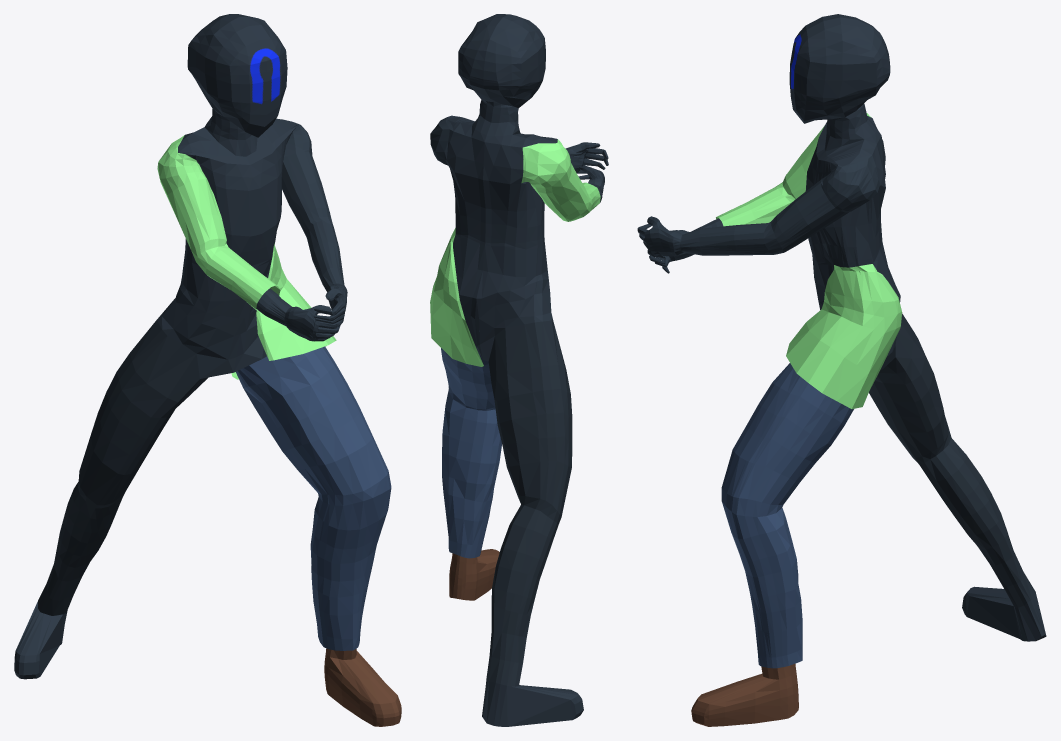
Rendered from Mar_WR_000017.obj.
The picture shows the model from 3 angles, left to right: view 1: azimuth 30°, elevation 25°; view 2: azimuth 150°, elevation 25°; view 3: azimuth 270°, elevation 25°; orthographic projection. The views are drawn at different scales.
Visible parts, largest first — view 1: Cube.000_Cube.001; view 2: Cube.000_Cube.001; view 3: Cube.000_Cube.001.
Part boxes in pixels (bbox=[...]): Cube.000_Cube.001: bbox=[14, 14, 401, 726]; Cube.000_Cube.001: bbox=[430, 14, 608, 726]; Cube.000_Cube.001: bbox=[637, 14, 1046, 726].
Bounding box in the file's own units: 1.47 × 3.72 × 2.07.
